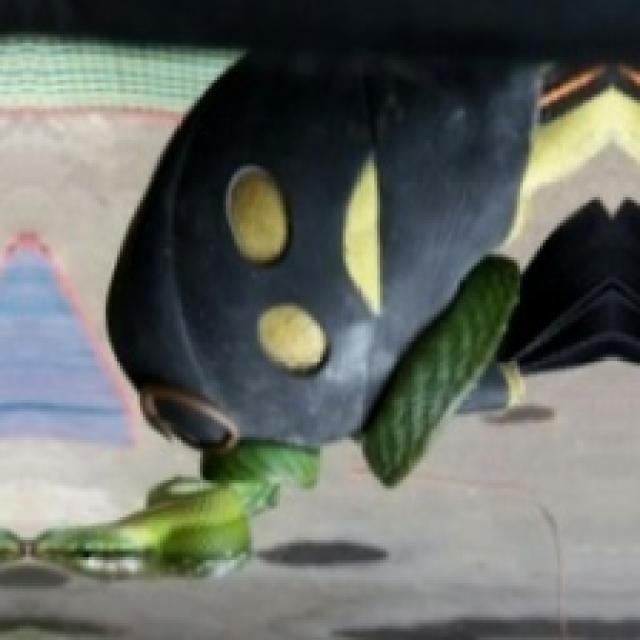red-tailed green ratsnake: (0, 441, 316, 575), (361, 256, 520, 486)
